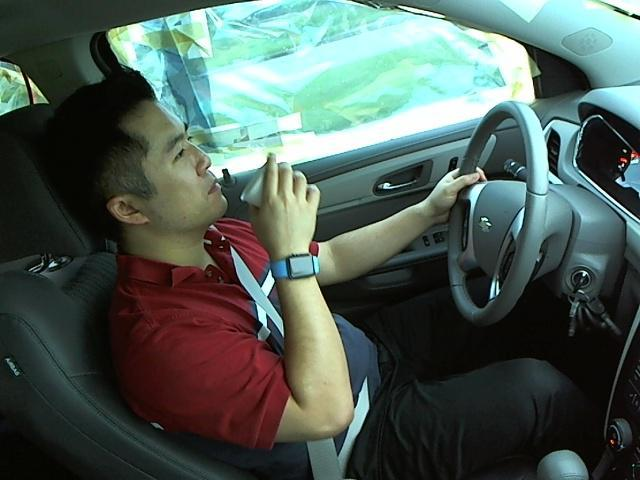Drinking: (100, 98, 319, 247)
